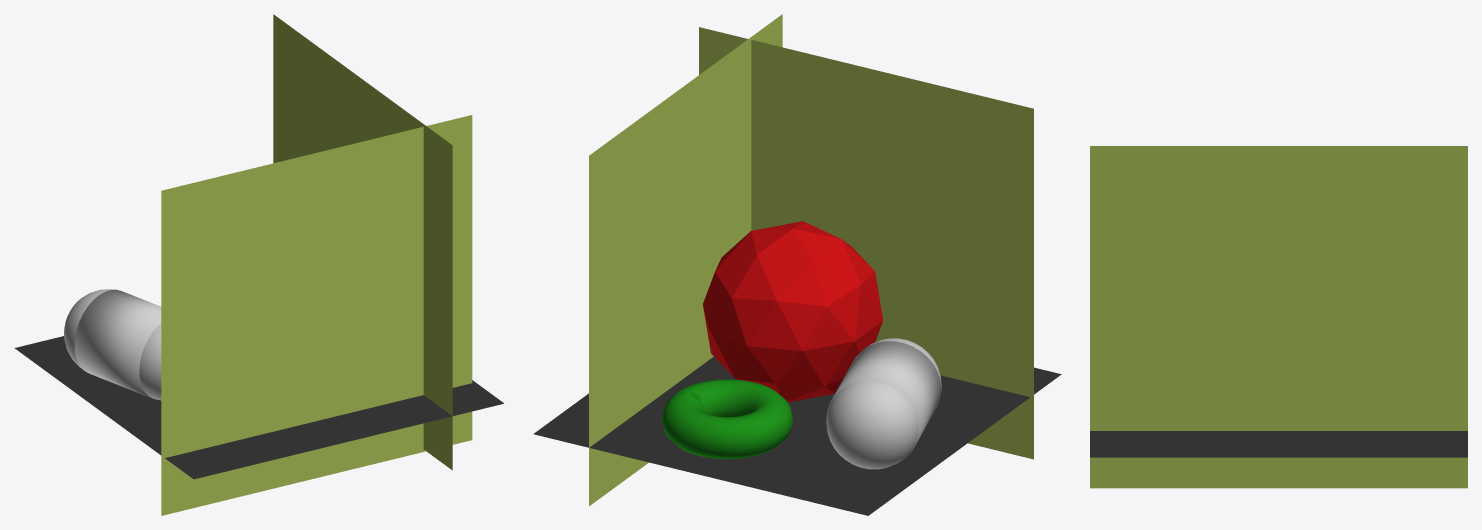
Rendered from robin-green-sh-scene.obj.
The picture shows the model from 3 angles, left to right: view 1: azimuth 30°, elevation 25°; view 2: azimuth 150°, elevation 25°; view 3: azimuth 270°, elevation 25°; orthographic projection. The views are drawn at different scales.
Parts seen in each view (by area): view 1: wall_back, wall_right, floor, Sphere.001; view 2: wall_back, wall_right, Icosphere, floor, Sphere.001, Torus; view 3: wall_right, floor.
Boxes of the visible parts, left/top/right/bottom form: wall_back: left=161, top=115, right=472, bottom=515; wall_right: left=273, top=14, right=452, bottom=470; floor: left=14, top=336, right=503, bottom=479; Sphere.001: left=64, top=289, right=161, bottom=400; wall_back: left=699, top=27, right=1033, bottom=459; wall_right: left=589, top=14, right=782, bottom=506; Icosphere: left=703, top=221, right=883, bottom=402; floor: left=533, top=356, right=1061, bottom=515; Sphere.001: left=826, top=338, right=941, bottom=469; Torus: left=661, top=379, right=793, bottom=459; wall_right: left=1090, top=146, right=1467, bottom=488; floor: left=1090, top=431, right=1467, bottom=457.
Size of the model in its own units: 4.55 by 4.54 by 4.51.
